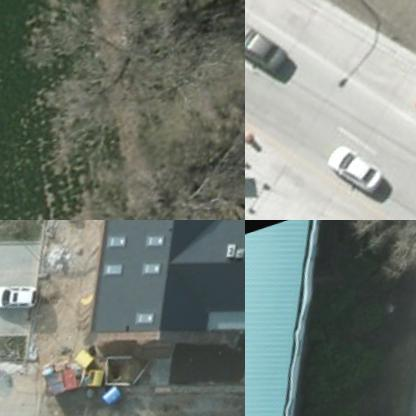car: (245, 6, 292, 93), (327, 146, 388, 206), (0, 271, 45, 317)
